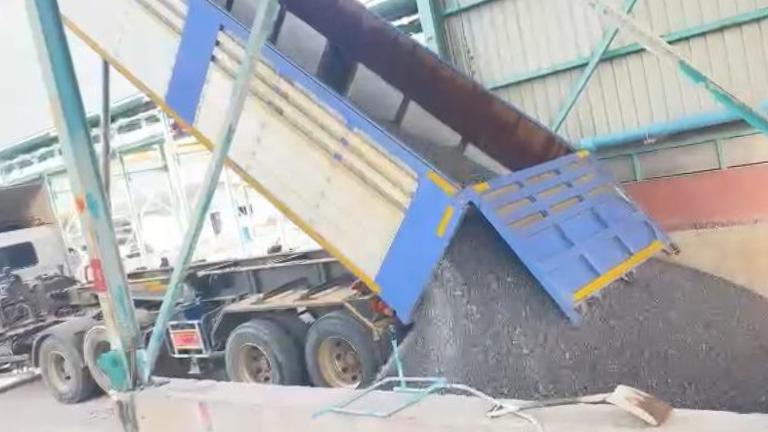gravel: (401, 214, 768, 412), (390, 124, 499, 184)
